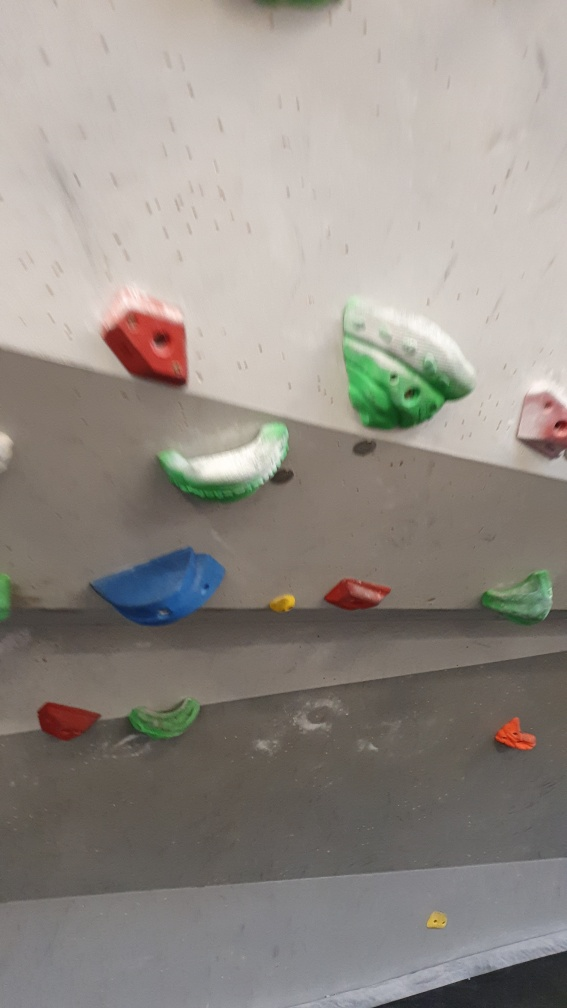Crimp: (90, 280, 191, 390), (512, 380, 567, 465), (30, 699, 104, 741), (324, 575, 391, 615)
Hand Start: (269, 459, 300, 495), (348, 435, 380, 465)
Jug: (338, 290, 479, 442), (148, 419, 293, 499), (475, 562, 563, 626), (117, 693, 205, 741)
Pinch: (85, 536, 227, 627)
